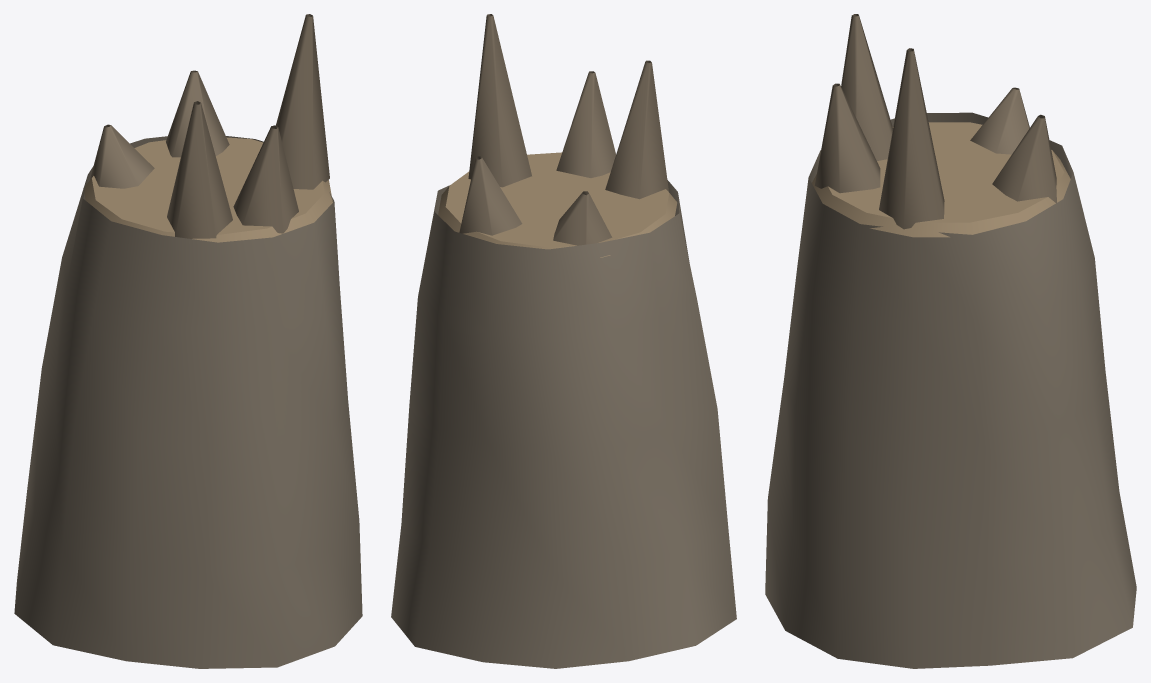
Rendered from stump_b.glb.
3 renders of one model, left to right at view 1: azimuth 30°, elevation 25°; view 2: azimuth 150°, elevation 25°; view 3: azimuth 270°, elevation 25°, orthographic. The views are drawn at different scales.
Visible parts, largest first — view 1: stump_b; view 2: stump_b; view 3: stump_b.
Part boxes in pixels (bbox=[...]): stump_b: bbox=[14, 14, 362, 668]; stump_b: bbox=[391, 14, 736, 668]; stump_b: bbox=[765, 14, 1136, 668].
Size of the model in its own units: 0.725 by 1.36 by 0.7616.
